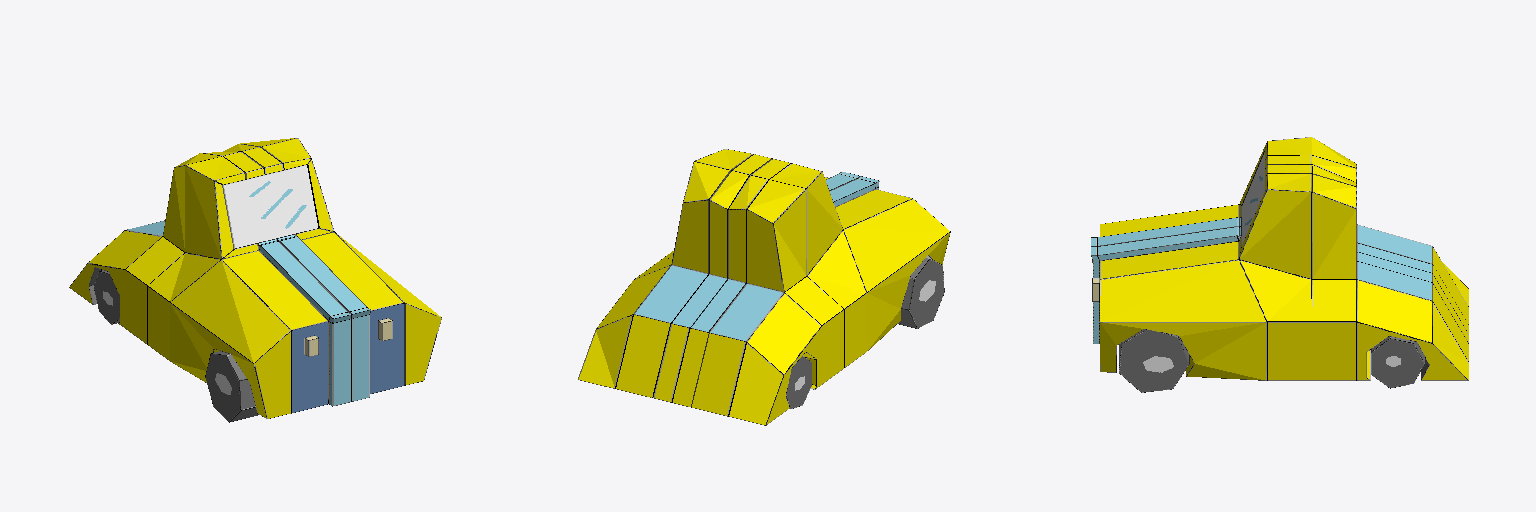
The picture shows the model from 3 angles: view 1: azimuth 30°, elevation 25°; view 2: azimuth 150°, elevation 25°; view 3: azimuth 270°, elevation 25°; orthographic projection.
Visible parts, largest first — view 1: car_Cube; view 2: car_Cube; view 3: car_Cube.
Boxes of the visible parts, box(x1,y1,x2,y2) form: car_Cube: box(69, 138, 441, 422); car_Cube: box(578, 149, 950, 425); car_Cube: box(1091, 137, 1468, 392).
Bounding box in the file's own units: 3.04 × 2.79 × 5.18.
Materials: 1 (1 with a texture image).